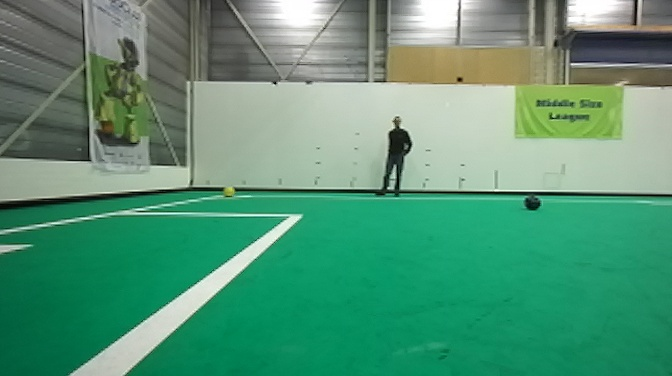ball: (523, 191, 544, 213), (222, 185, 235, 198)
human: (374, 113, 414, 200)
